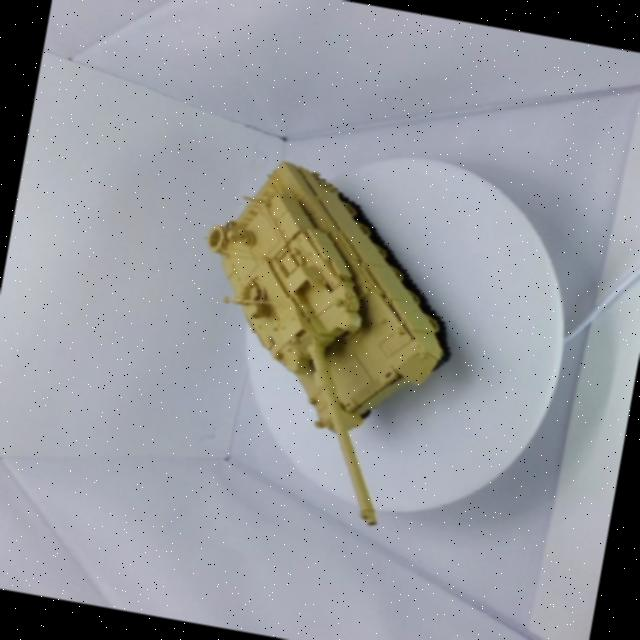korea tank: (137, 132, 506, 548)
